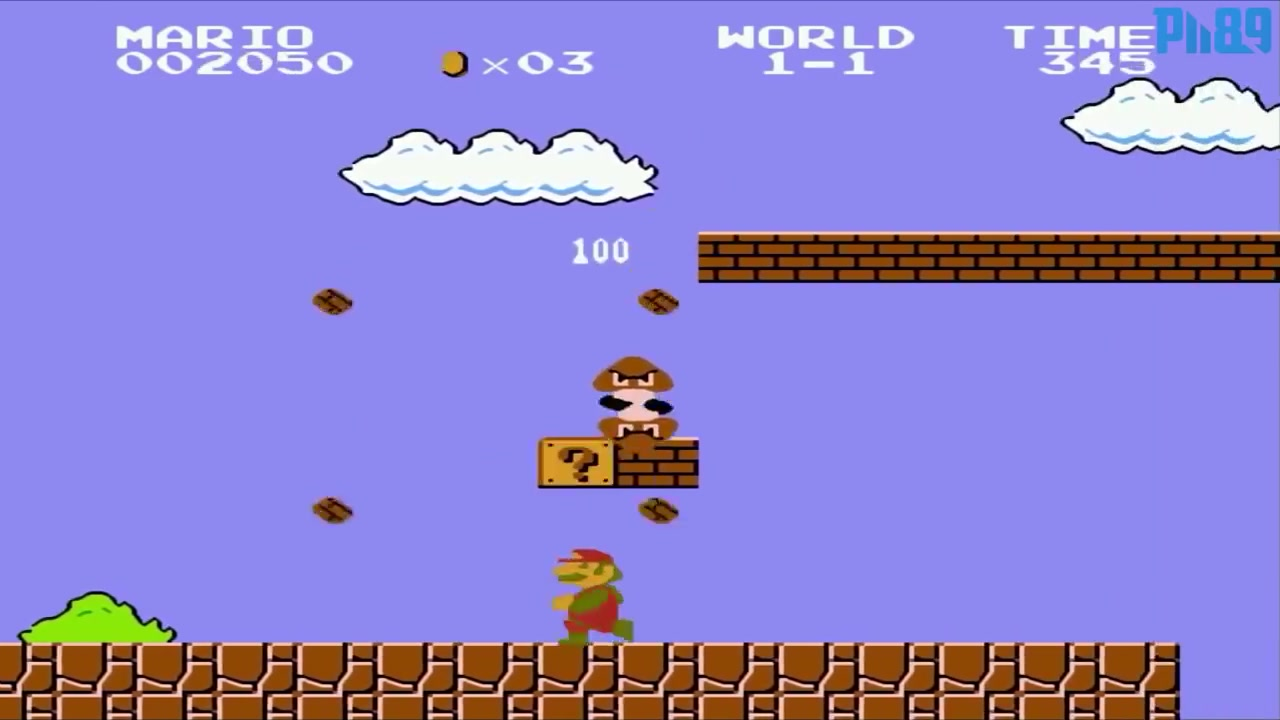mario: (536, 535, 641, 644)
